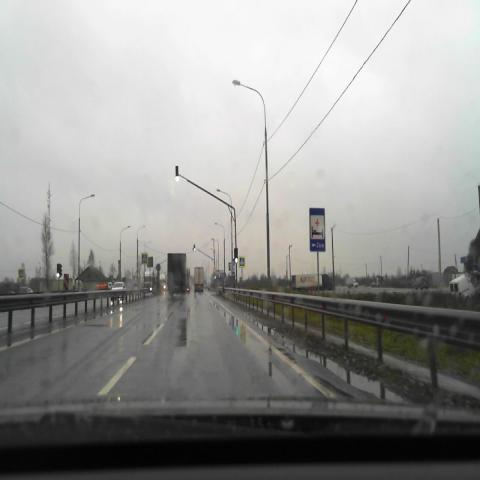7_2: (309, 208, 325, 252)
